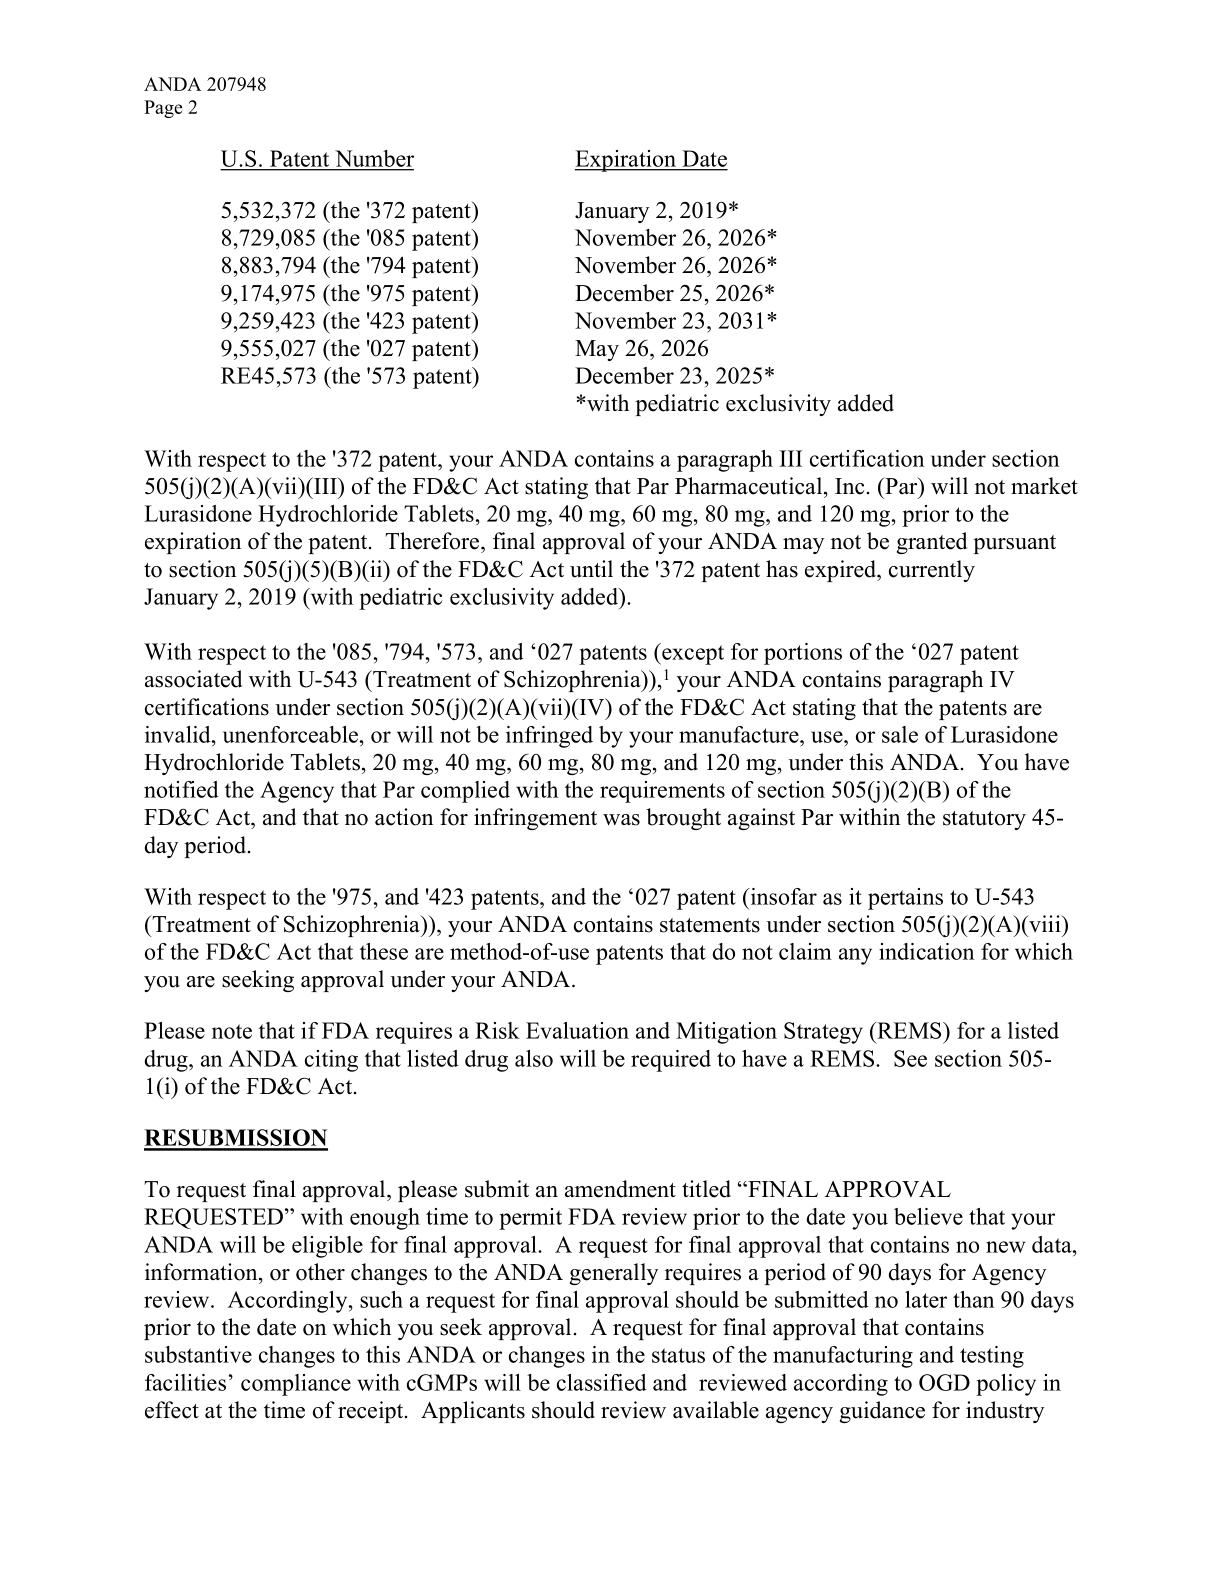nolines: (216, 144, 780, 390)
